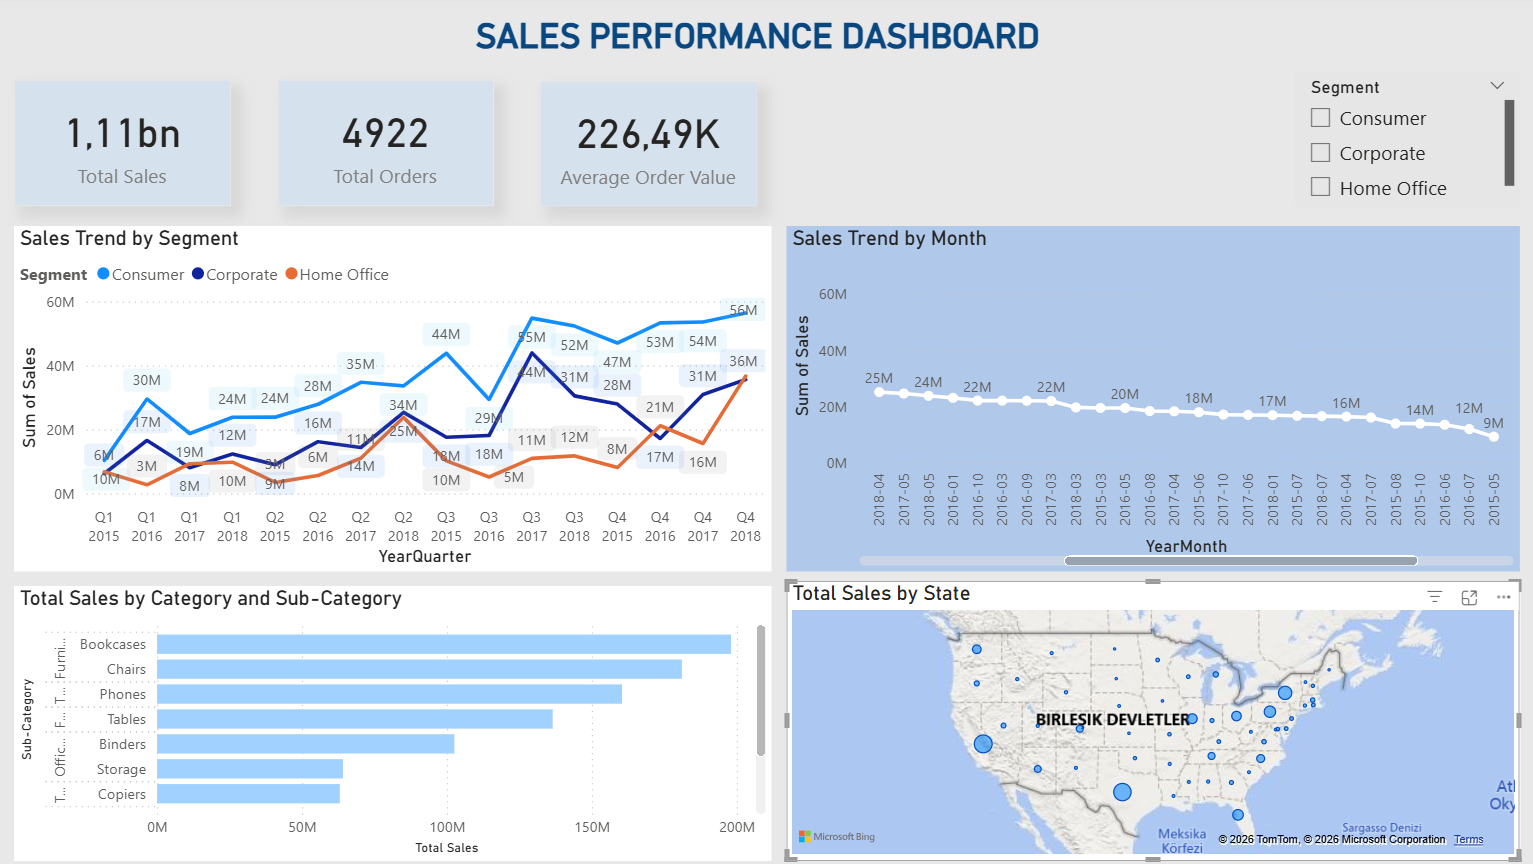

Layout of this report page (visuals, bound fields, positions):
{"tool":"powerbi","page":{"name":"Page 1","canvas":[1280,720],"ordinal":0},"visuals":[{"type":"lineChart","title":"Sales Trend by Segment","fields":{"Y":["Sum(train.Sales)"],"Category":["train.YearQuarter Hierarchy.YearQuarter","train.YearQuarter Hierarchy.YearMonth"],"Series":["train.Segment"]},"box":[12.1,191,628,286.4],"z":0},{"type":"lineChart","title":"Sales Trend by Month","fields":{"Category":["train.YearMonth"],"Y":["Sum(train.Sales)"]},"box":[653.2,190.7,607.9,286.8],"z":1000},{"type":"card","fields":{"Values":["train.Total Sales"]},"box":[12.1,69.9,180.2,104.9],"z":2000},{"type":"card","fields":{"Values":["train.Total Orders"]},"box":[231.1,69.9,178.9,104.9],"z":3000},{"type":"card","fields":{"Values":["train.Avarage Order Value"]},"box":[448.7,70,179.8,104.3],"z":4000},{"type":"clusteredBarChart","fields":{"Category":["train.Category","train.Sub-Category"],"Y":["train.Total Sales"]},"box":[12.5,488.8,628.4,228],"z":5000},{"type":"slicer","fields":{"Values":["train.Segment"]},"box":[1074.4,61.7,186.6,112.5],"z":6000},{"type":"map","fields":{"Category":["train.State"],"Size":["train.Total Sales"]},"box":[653.3,485.4,607.9,231.4],"z":7000},{"type":"textbox","title":"SALES PERFORMANCE DASHBOARD","box":[362.3,15.1,532.4,79.6],"z":8000}]}

Visuals, with their boxes in screenshot pixels (x1, y1, x2, y2), scaled from the page's 1280x720 canvas onto the 1533x864 screenshot:
"Sales Trend by Segment" lineChart: x1=14 y1=229 x2=767 y2=573
"Sales Trend by Month" lineChart: x1=782 y1=229 x2=1510 y2=573
card - train.Total Sales: x1=14 y1=84 x2=230 y2=210
card - train.Total Orders: x1=277 y1=84 x2=491 y2=210
card - train.Avarage Order Value: x1=537 y1=84 x2=753 y2=209
clusteredBarChart - train.Category x train.Sub-Category: x1=15 y1=587 x2=768 y2=860
slicer - train.Segment: x1=1287 y1=74 x2=1510 y2=209
map - train.State x train.Total Sales: x1=782 y1=582 x2=1510 y2=860
"SALES PERFORMANCE DASHBOARD" textbox: x1=434 y1=18 x2=1072 y2=114
